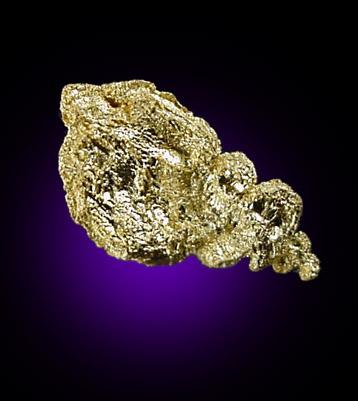gold: (59, 80, 320, 281)
